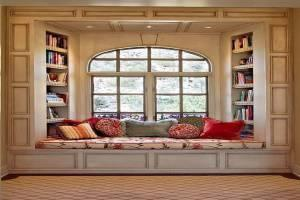window: (86, 44, 213, 124)
